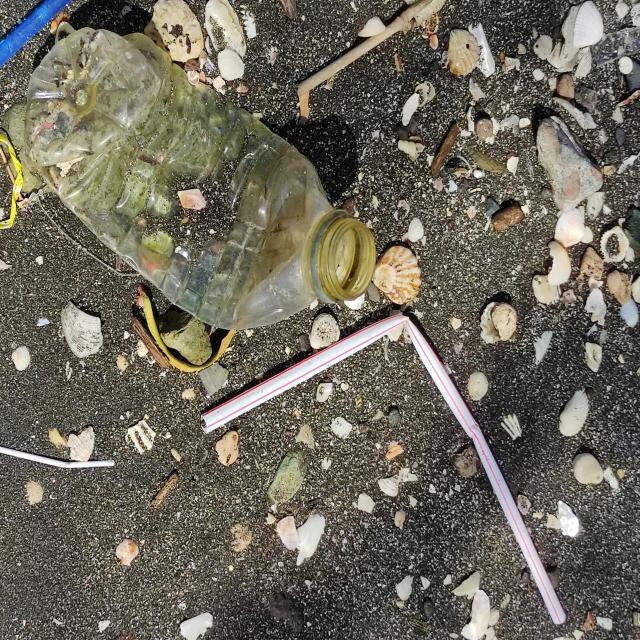plastic_waste: (200, 313, 566, 623), (27, 29, 379, 333)
